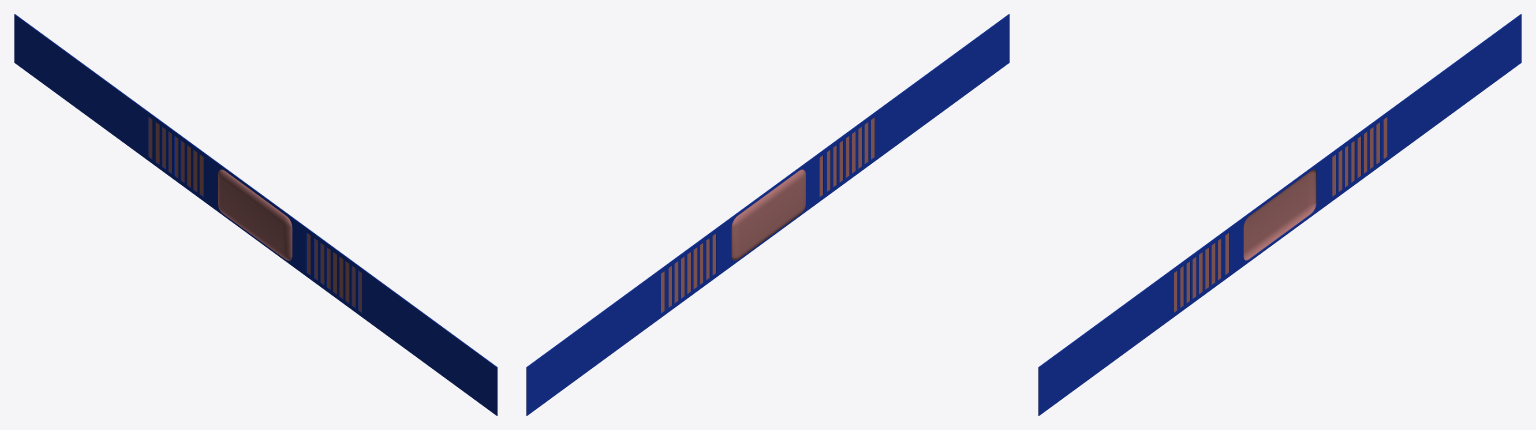
The model's file is 5x90 lotsofwindows.FBX.
3 renders of one model, left to right at view 1: azimuth 30°, elevation 25°; view 2: azimuth 150°, elevation 25°; view 3: azimuth 330°, elevation 25°, orthographic.
Parts seen in each view (by area): view 1: Box069; view 2: Box069; view 3: Box069.
Part boxes in pixels (box(x1,y1,x2,y2)): Box069: box(14, 14, 497, 415); Box069: box(526, 14, 1009, 415); Box069: box(1038, 14, 1521, 415).
Size of the model in its own units: 0.4694 by 5 by 90.37.
